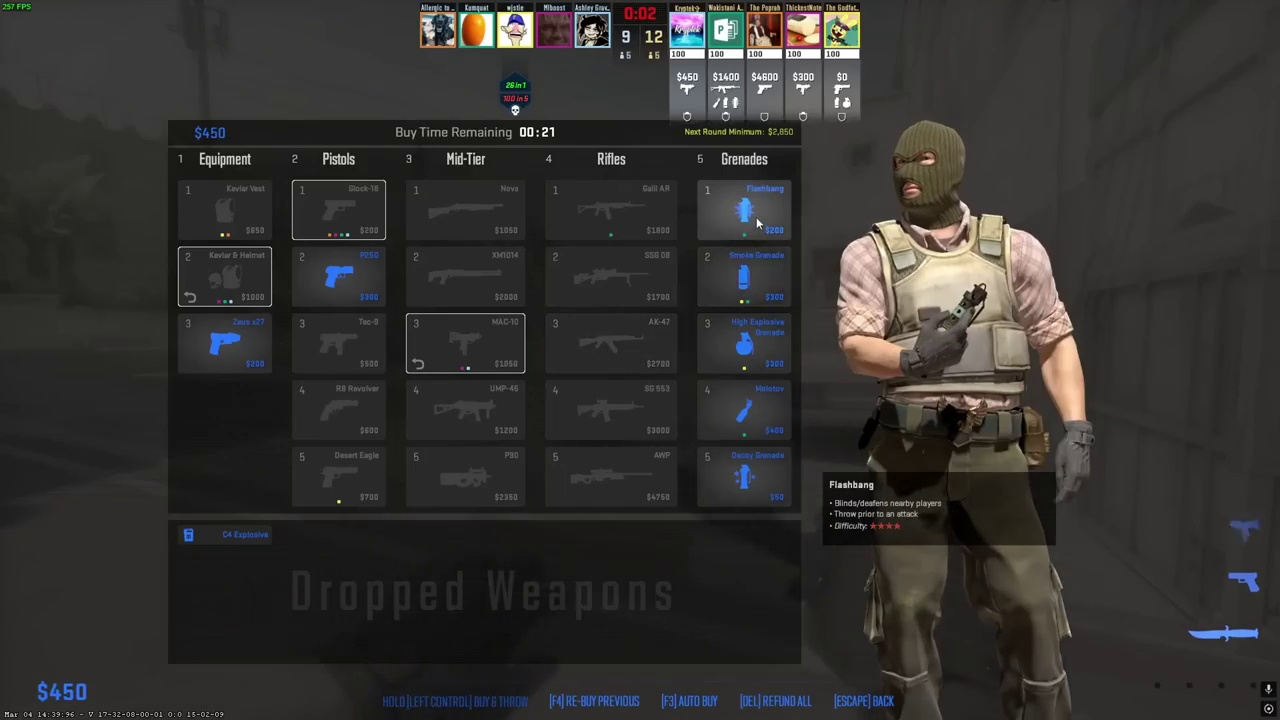Terrorist: (847, 120, 1077, 720)
